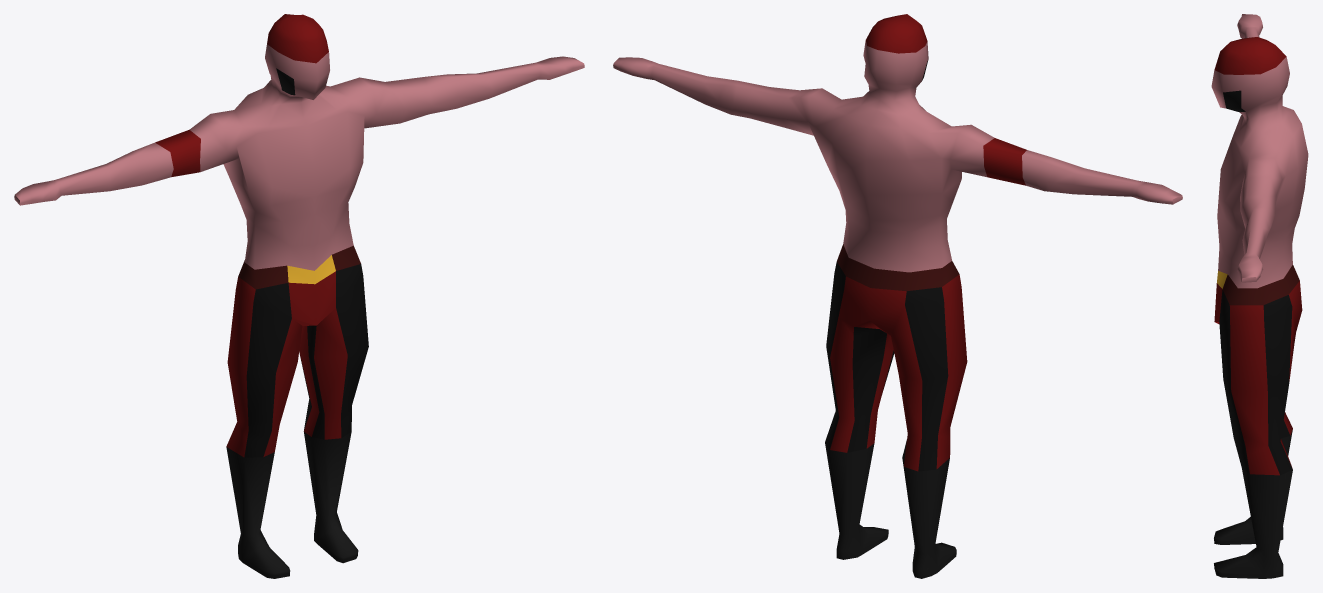
The model's file is pirat.fbx.
3 views of the same model, side by side, from view 1: azimuth 30°, elevation 25°; view 2: azimuth 150°, elevation 25°; view 3: azimuth 270°, elevation 25° (orthographic). The views are drawn at different scales.
Parts seen in each view (by area): view 1: materialowy_chlopiec; view 2: materialowy_chlopiec; view 3: materialowy_chlopiec.
Part boxes in pixels (left/top/right/bottom): materialowy_chlopiec: left=14, top=14, right=584, bottom=578; materialowy_chlopiec: left=613, top=14, right=1182, bottom=578; materialowy_chlopiec: left=1211, top=14, right=1308, bottom=578.
Bounding box in the file's own units: 42.99 × 6.65 × 39.04.
